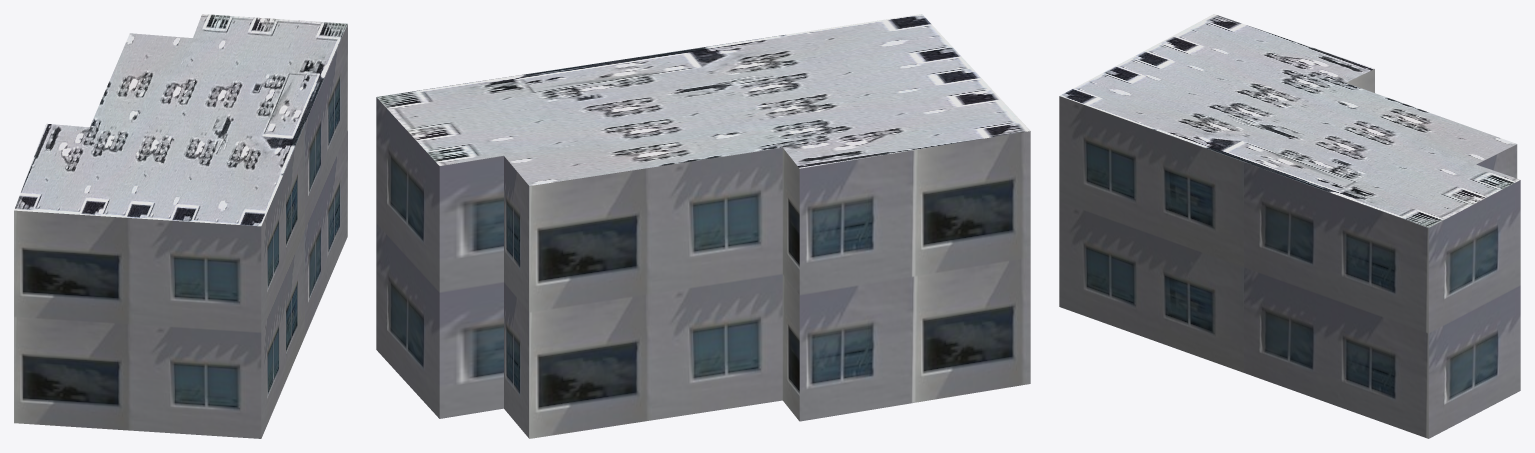
Rendered from ResTex__4815.fbx.
The picture shows the model from 3 angles, left to right: view 1: azimuth 30°, elevation 25°; view 2: azimuth 150°, elevation 25°; view 3: azimuth 270°, elevation 25°; orthographic projection. The views are drawn at different scales.
Visible parts, largest first — view 1: CityEngineMaterial_10_m, CityEngineMaterial_8_m; view 2: CityEngineMaterial_10_m, CityEngineMaterial_8_m; view 3: CityEngineMaterial_10_m, CityEngineMaterial_8_m.
Part boxes in pixels (x1,y1,x2,y2): CityEngineMaterial_10_m: [14, 24, 347, 438]; CityEngineMaterial_8_m: [14, 14, 347, 226]; CityEngineMaterial_10_m: [376, 97, 1030, 438]; CityEngineMaterial_8_m: [376, 14, 1030, 185]; CityEngineMaterial_10_m: [1059, 69, 1520, 438]; CityEngineMaterial_8_m: [1060, 14, 1520, 227].
Size of the model in its own units: 13.06 by 6 by 11.89.
Materials: 2 (2 with a texture image).
